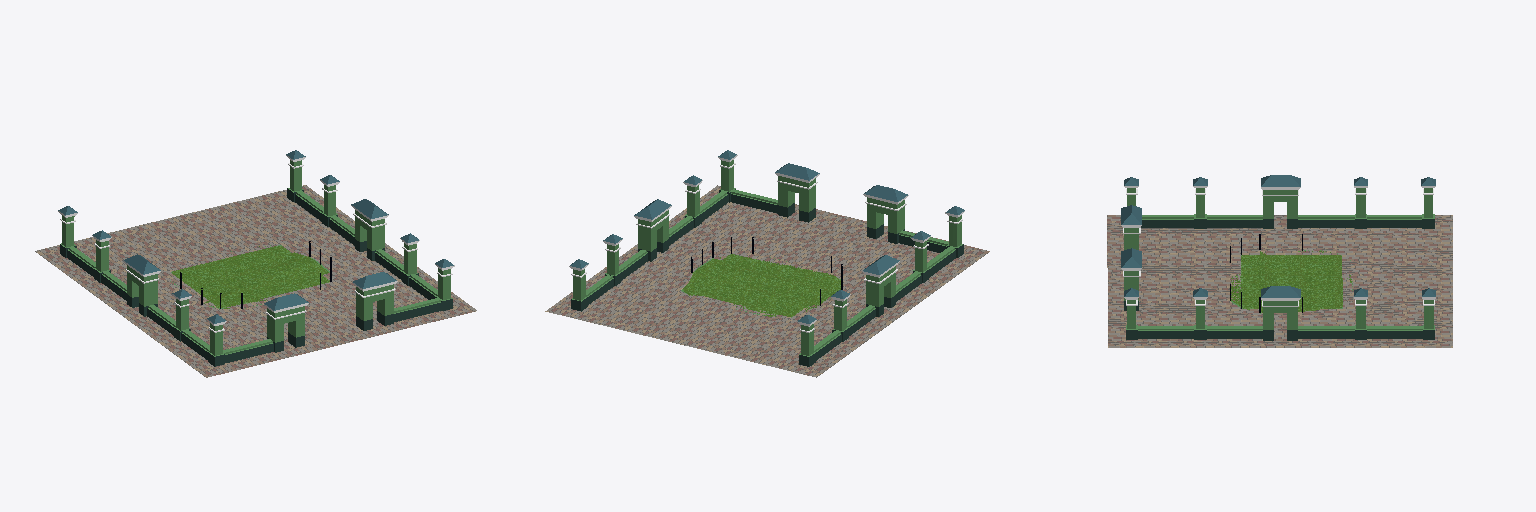
The picture shows the model from 3 angles: view 1: azimuth 30°, elevation 25°; view 2: azimuth 150°, elevation 25°; view 3: azimuth 270°, elevation 25°; orthographic projection.
Visible parts, largest first — view 1: Plane, ConcreteFence.002, ConcreteFence_small, ConcreteFence_small.001_ConcreteFence_small, ConcreteFence_section.001_ConcreteFence_section, ConcreteFence_section, ConcreteFence_section.002_ConcreteFence_section, ConcreteFence_section.007_ConcreteFence_section.004, ConcreteFence_section.004_ConcreteFence_section, ConcreteFence_section.009_ConcreteFence_section.005, ConcreteFence_section.006_ConcreteFence_section, ConcreteFence_section.008_ConcreteFence_section; view 2: Plane, ConcreteFence.002, ConcreteFence_small.001_ConcreteFence_small, ConcreteFence_small, ConcreteFence_section, ConcreteFence_section.009_ConcreteFence_section.005, ConcreteFence_section.007_ConcreteFence_section.004, ConcreteFence_section.001_ConcreteFence_section, ConcreteFence_section.006_ConcreteFence_section, ConcreteFence_section.004_ConcreteFence_section, ConcreteFence_section.008_ConcreteFence_section, ConcreteFence_section.002_ConcreteFence_section; view 3: Plane, ConcreteFence_small.001_ConcreteFence_small, ConcreteFence_small, ConcreteFence.002, ConcreteFence_section.006_ConcreteFence_section, ConcreteFence_section.008_ConcreteFence_section, ConcreteFence_section.007_ConcreteFence_section.004, ConcreteFence_section.004_ConcreteFence_section, ConcreteFence_section.009_ConcreteFence_section.005, ConcreteFence_section.002_ConcreteFence_section, ConcreteFence_section.003_ConcreteFence_section.001, ConcreteFence_section.005_ConcreteFence_section.001 (+1 smaller).
Part boxes in pixels (bbox=[...]): Plane: bbox=[35, 185, 476, 377]; ConcreteFence.002: bbox=[264, 272, 397, 352]; ConcreteFence_small: bbox=[123, 254, 160, 316]; ConcreteFence_small.001_ConcreteFence_small: bbox=[351, 199, 388, 260]; ConcreteFence_section.001_ConcreteFence_section: bbox=[207, 314, 273, 366]; ConcreteFence_section: bbox=[394, 259, 454, 321]; ConcreteFence_section.002_ConcreteFence_section: bbox=[172, 289, 209, 359]; ConcreteFence_section.007_ConcreteFence_section.004: bbox=[286, 150, 323, 221]; ConcreteFence_section.004_ConcreteFence_section: bbox=[400, 233, 437, 299]; ConcreteFence_section.009_ConcreteFence_section.005: bbox=[58, 206, 95, 276]; ConcreteFence_section.006_ConcreteFence_section: bbox=[92, 230, 126, 300]; ConcreteFence_section.008_ConcreteFence_section: bbox=[320, 175, 354, 245]; Plane: bbox=[545, 185, 989, 377]; ConcreteFence.002: bbox=[775, 163, 908, 243]; ConcreteFence_small.001_ConcreteFence_small: bbox=[634, 199, 671, 261]; ConcreteFence_small: bbox=[862, 255, 899, 316]; ConcreteFence_section: bbox=[718, 150, 777, 213]; ConcreteFence_section.009_ConcreteFence_section.005: bbox=[797, 315, 841, 366]; ConcreteFence_section.007_ConcreteFence_section.004: bbox=[569, 259, 613, 311]; ConcreteFence_section.001_ConcreteFence_section: bbox=[899, 206, 964, 257]; ConcreteFence_section.006_ConcreteFence_section: bbox=[831, 290, 875, 341]; ConcreteFence_section.004_ConcreteFence_section: bbox=[683, 175, 728, 227]; ConcreteFence_section.008_ConcreteFence_section: bbox=[603, 234, 647, 285]; ConcreteFence_section.002_ConcreteFence_section: bbox=[911, 231, 955, 282]; Plane: bbox=[1107, 215, 1452, 347]; ConcreteFence_small.001_ConcreteFence_small: bbox=[1261, 286, 1300, 340]; ConcreteFence_small: bbox=[1261, 175, 1300, 228]; ConcreteFence.002: bbox=[1121, 205, 1141, 310]; ConcreteFence_section.006_ConcreteFence_section: bbox=[1298, 177, 1367, 228]; ConcreteFence_section.008_ConcreteFence_section: bbox=[1298, 288, 1367, 339]; ConcreteFence_section.007_ConcreteFence_section.004: bbox=[1367, 288, 1435, 339]; ConcreteFence_section.004_ConcreteFence_section: bbox=[1138, 288, 1207, 339]; ConcreteFence_section.009_ConcreteFence_section.005: bbox=[1367, 177, 1435, 228]; ConcreteFence_section.002_ConcreteFence_section: bbox=[1141, 177, 1207, 228]; ConcreteFence_section.003_ConcreteFence_section.001: bbox=[1207, 215, 1262, 227]; ConcreteFence_section.005_ConcreteFence_section.001: bbox=[1207, 326, 1262, 338].
Size of the model in its own units: 20.48 by 3.67 by 22.53.
Materials: 8 (3 with a texture image).